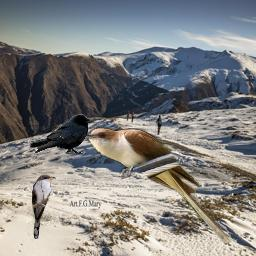Crow: (28, 114, 94, 154)
Cuckoo: (77, 126, 233, 245), (31, 174, 56, 239)
